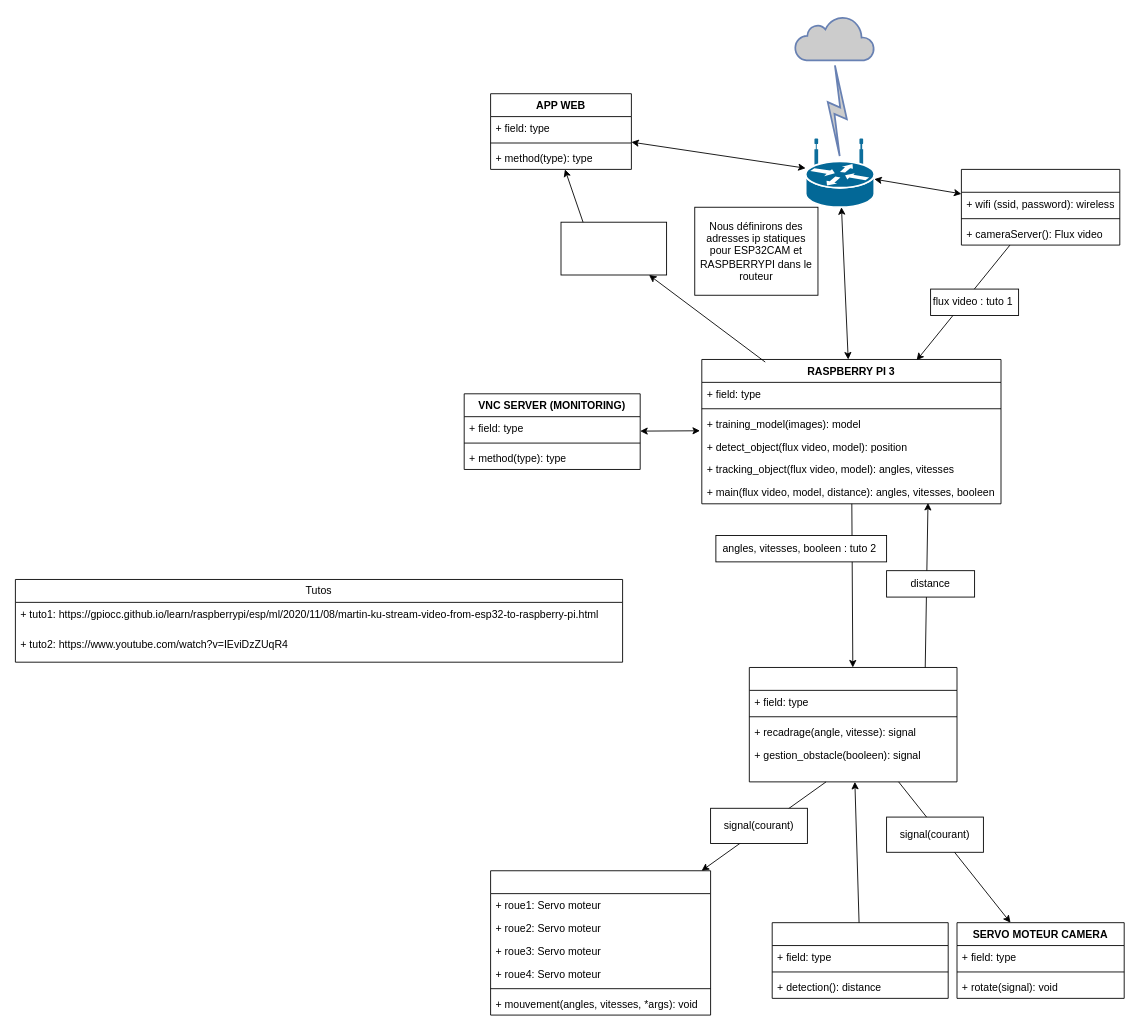
Some shapes in this 1140 by 1032 pixel diagram are drawn without their labels. The box of each missing label's shape, as (x1, y1, x2, y2) in pixels:
ARDUINO UNO: (748, 667, 957, 782)
CAPTEUR ULTRASONIQUE: (771, 922, 948, 998)
ESP32-CAM: (961, 169, 1120, 245)
message (objet toruvé ou objet non trouvé): (560, 221, 667, 275)
SERVO MOTEUR ROUES: (490, 870, 711, 1015)
